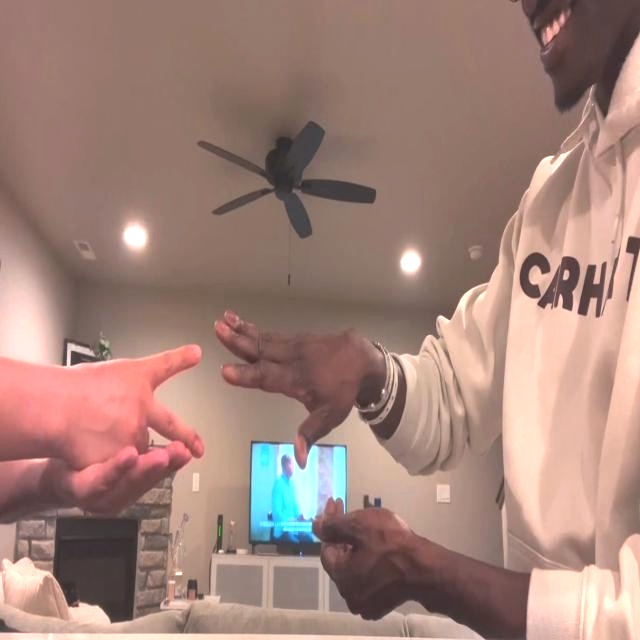Paper: (212, 309, 372, 472)
Scissors: (56, 342, 206, 477)
